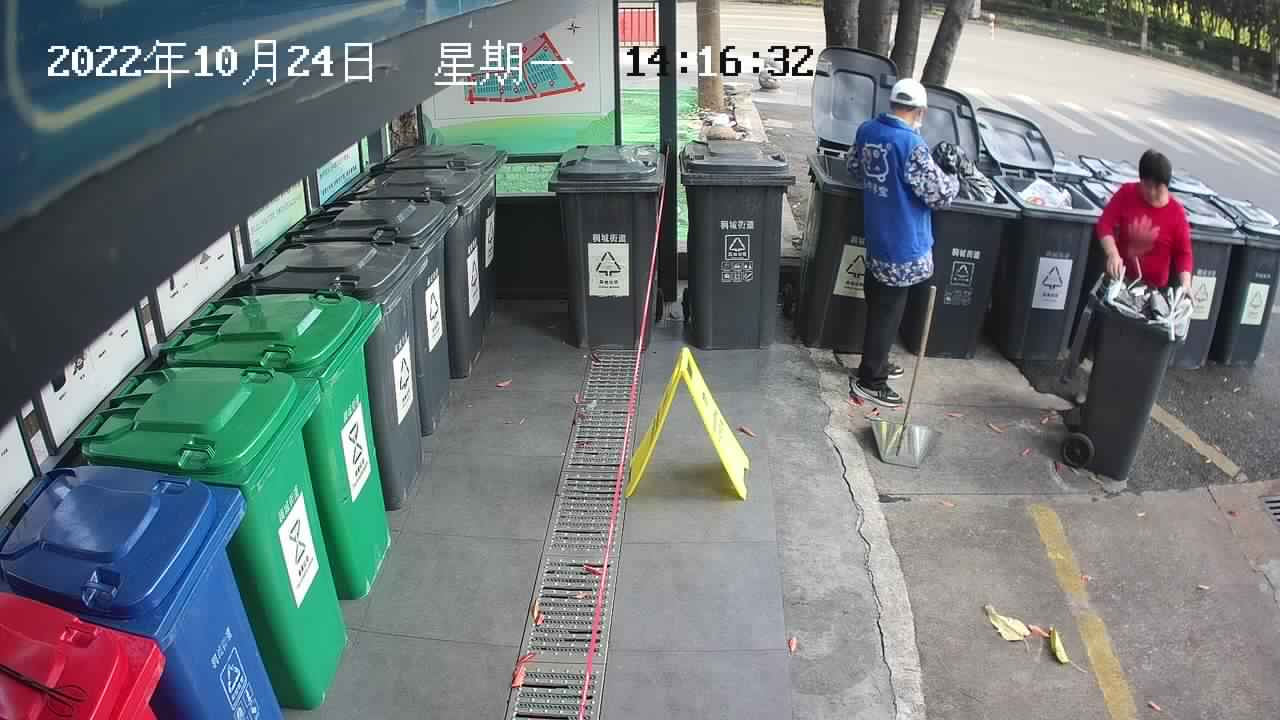person: (1069, 143, 1203, 409)
worker: (842, 74, 968, 412)
